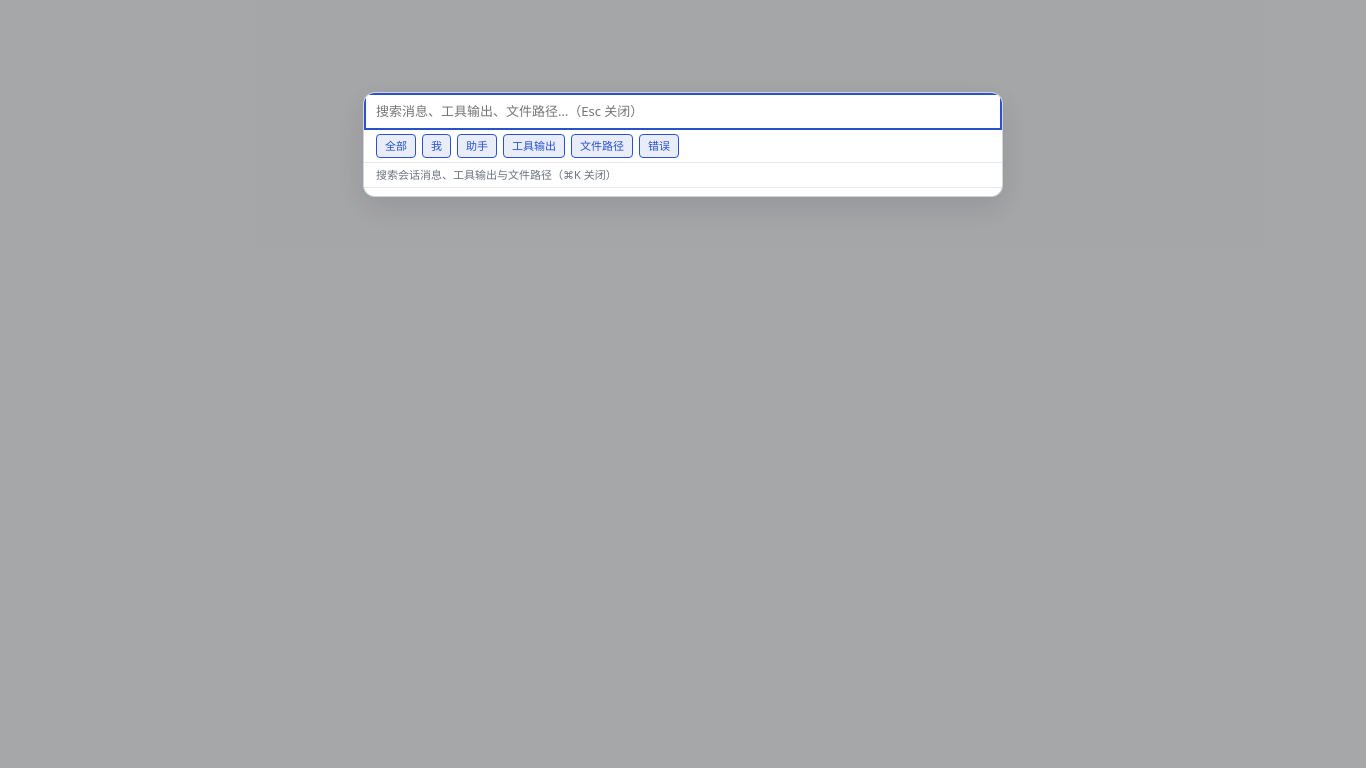
SearchPalette › 打开即有焦点与空态提示；索引完成后可搜出跨项目分组
The width and height of the screenshot is (1366, 768).
Check: the text "搜索会话消息、工具输出与文件路径（⌘K 关闭）" is shown, box top-left (364, 163), bottom-right (1002, 188)
Type "parser" into the field named "搜索会话记录".
click(683, 112); type("parser")  # box top-left (364, 93), bottom-right (1002, 130)
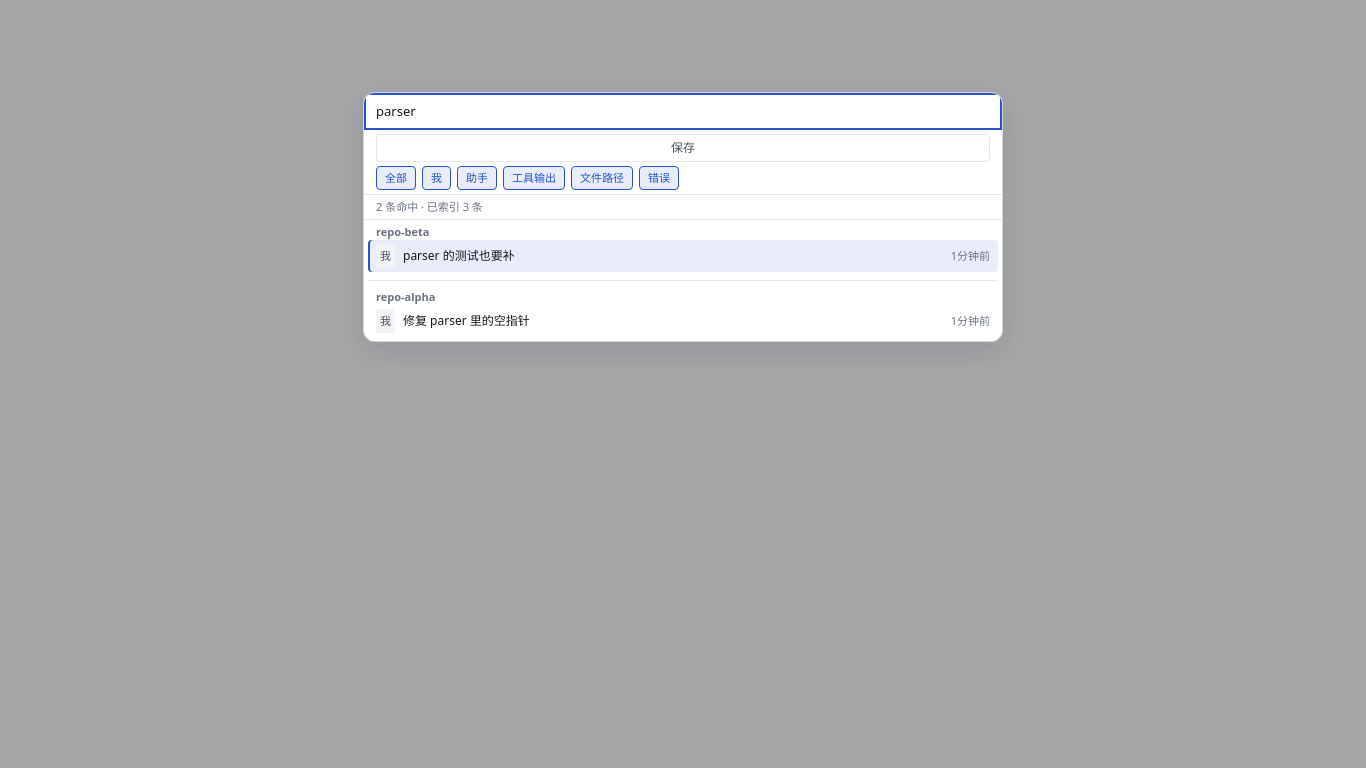
Check: the heading "repo-alpha" is shown, box top-left (376, 289), bottom-right (435, 304)
Check: the heading "repo-beta" is shown, box top-left (376, 224), bottom-right (430, 239)
Check: the text "2 条命中 · 已索引 3 条" is shown, box top-left (364, 195), bottom-right (1002, 220)
